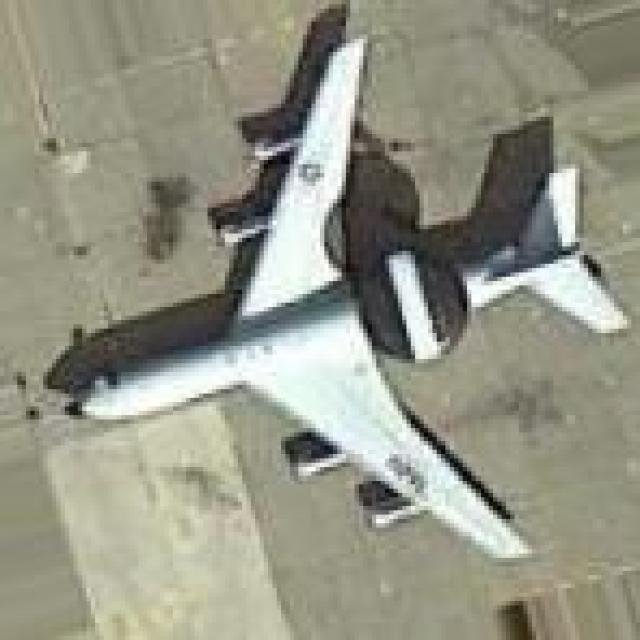E-3_TopDown: (39, 4, 627, 562)
